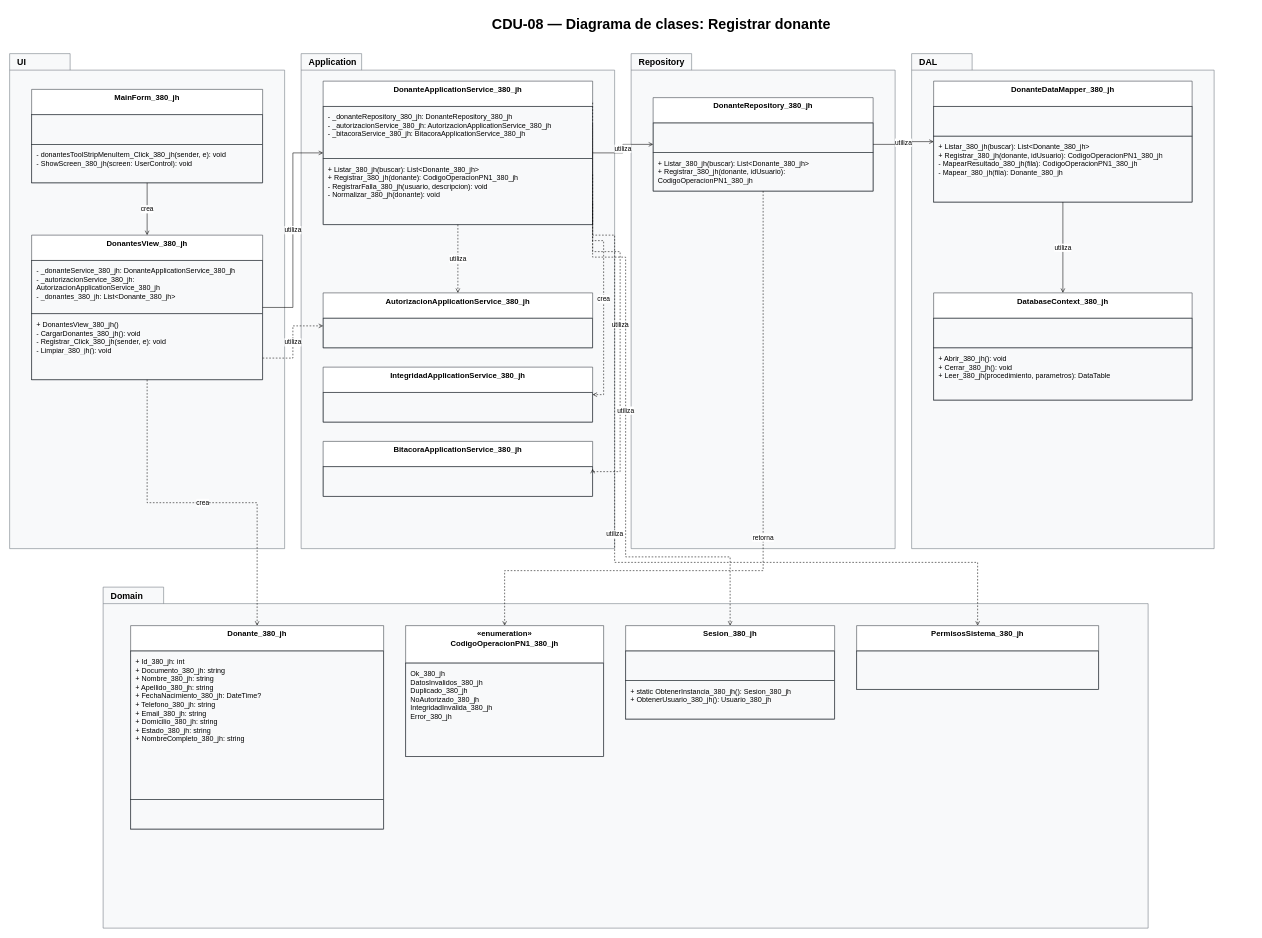
This 1262x938 diagram has some shape labels left out. Here are the shapes that lost their labels. From the top down, the centre of each, then its label:
(147,129): - _autorizacionService_380_jh: AutorizacionApplicationService_380_jh
(763,137): - _donanteDataMapper_380_jh: DonanteDataMapper_380_jh
(1062,121): - _databaseContext_380_jh: DatabaseContext_380_jh
(458,333): + TienePermiso_380_jh(usuario, codigo): bool
(1062,333): + Conexion_380_jh: SqlConnection
(458,407): + Verificar_380_jh(): InformeIntegridad_380_jh
(458,481): + RegistrarEvento_380_jh(modulo, accion, nivel, usuario, descripcion): bool
(730,665): - _usuario_380_jh: Usuario_380_jh
(977,669): + DonanteVer_380_jh = "DONANTE_VER" + DonanteCrear_380_jh = "DONANTE_CREAR"
(257,814): + ToString(): string
